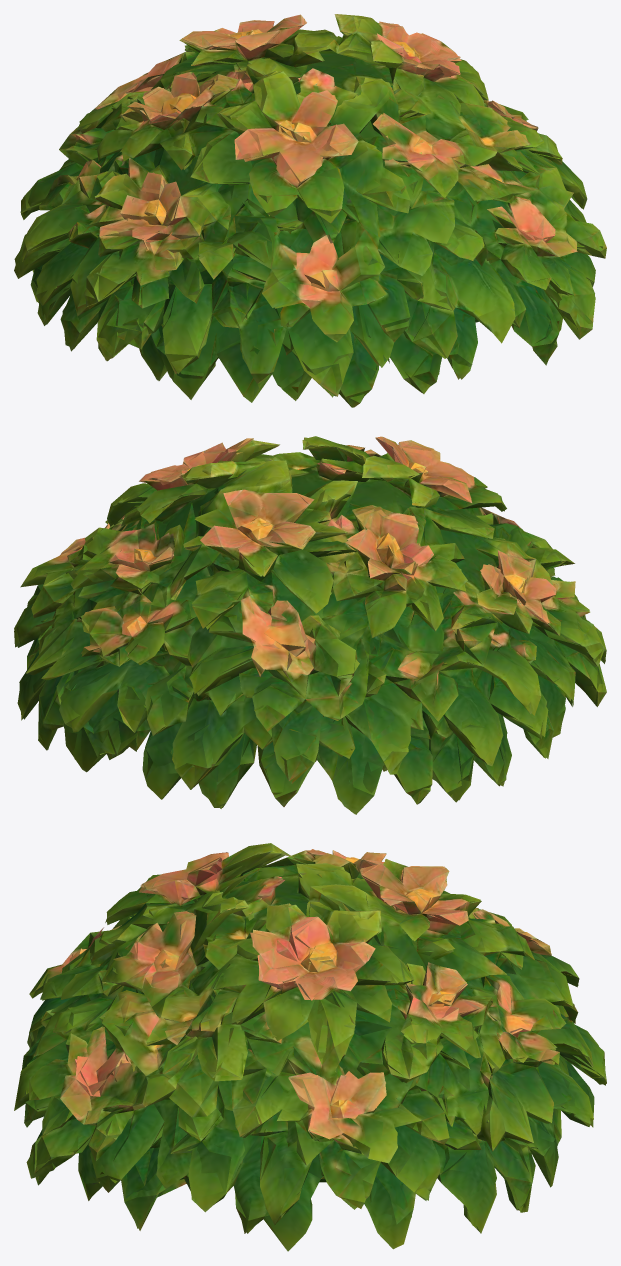
File: blooming-bush.glb
3 views of the same model, one above another, from view 1: azimuth 30°, elevation 25°; view 2: azimuth 150°, elevation 25°; view 3: azimuth 270°, elevation 25° (orthographic). The views are drawn at different scales.
Parts seen in each view (by area): view 1: output_unwrapped; view 2: output_unwrapped; view 3: output_unwrapped.
Boxes of the visible parts, <box> form: output_unwrapped: <box>14,14,606,407</box>; output_unwrapped: <box>14,436,606,814</box>; output_unwrapped: <box>14,843,606,1251</box>.
Size of the model in its own units: 1.89 by 0.8712 by 1.79.
Materials: 1 (1 with a texture image).
